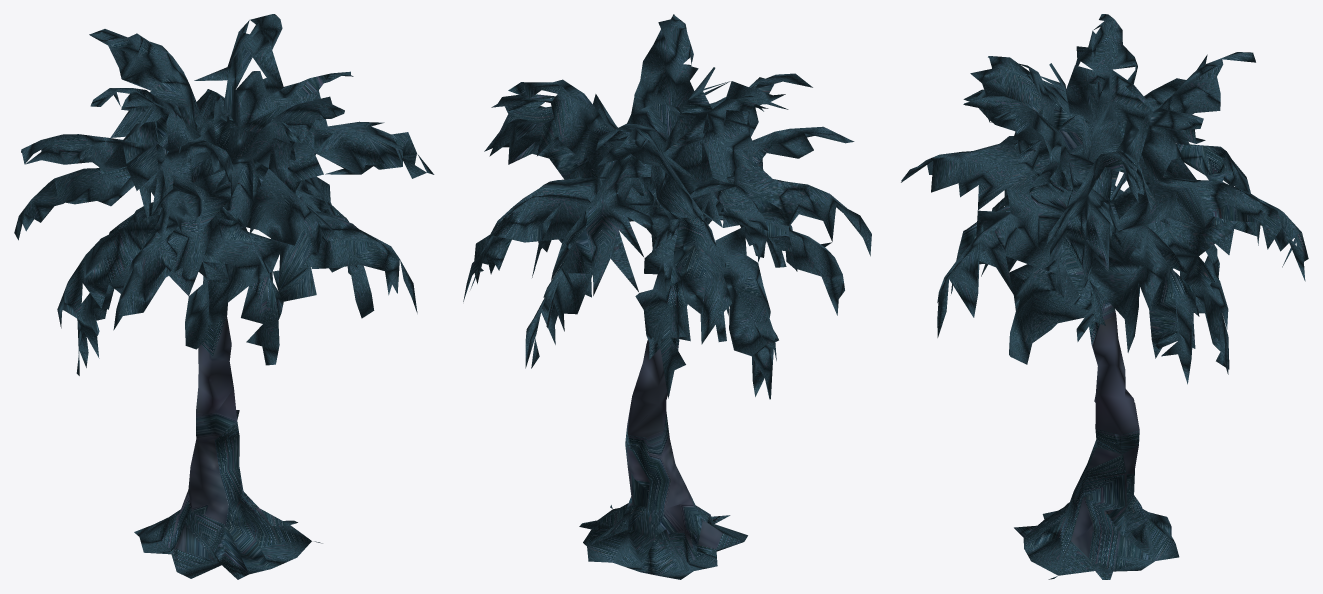
Rendered from palm.glb.
3 renders of one model, left to right at view 1: azimuth 30°, elevation 25°; view 2: azimuth 150°, elevation 25°; view 3: azimuth 270°, elevation 25°, orthographic.
Size of the model in its own units: 1.53 by 1.89 by 1.48.
1 material, 1 textured.
